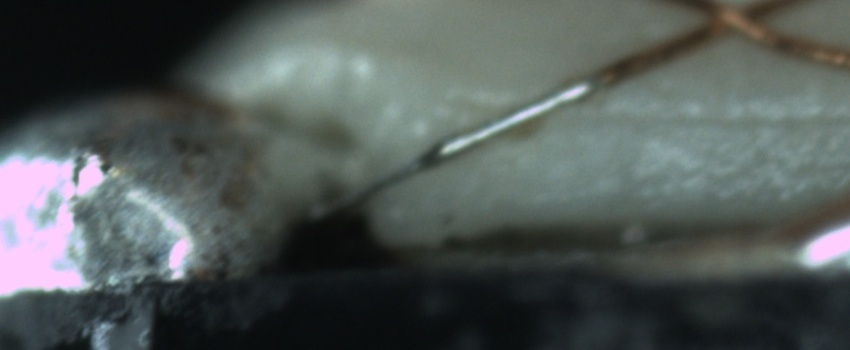CL: (678, 2, 792, 45)
DL: (575, 88, 850, 153)
TS: (287, 77, 595, 233)
TTCW: (301, 51, 645, 223)
